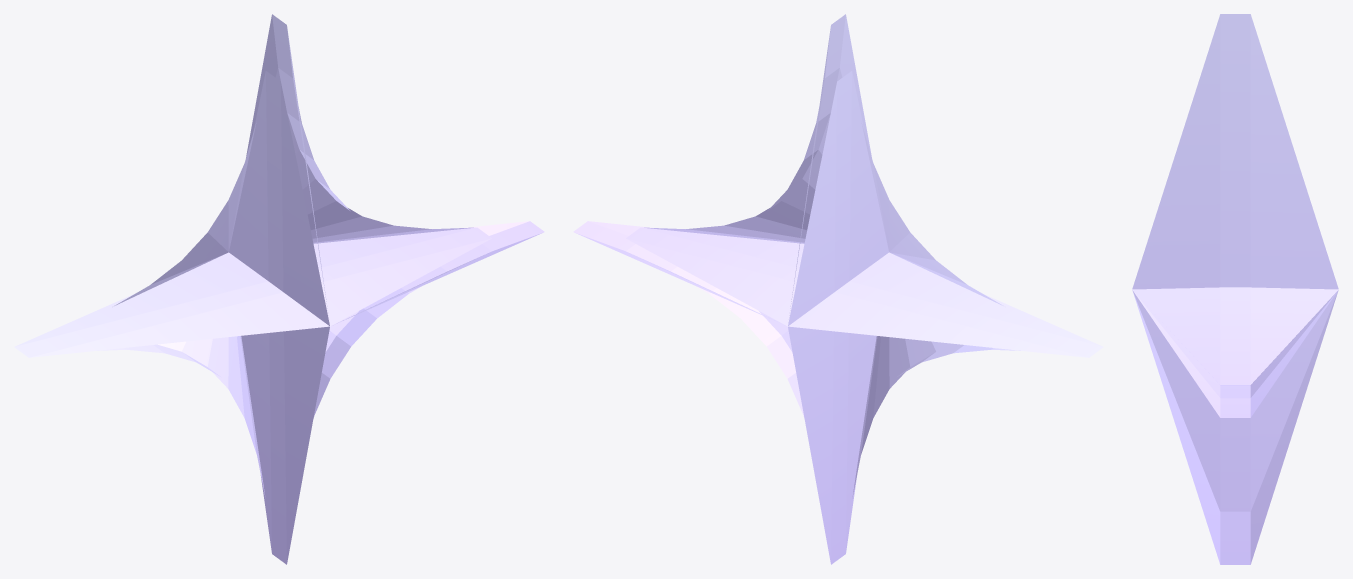
Rendered from deep-sky-star.glb.
The picture shows the model from 3 angles, left to right: view 1: azimuth 30°, elevation 25°; view 2: azimuth 150°, elevation 25°; view 3: azimuth 270°, elevation 25°; orthographic projection. The views are drawn at different scales.
Parts seen in each view (by area): view 1: star; view 2: star; view 3: star.
Boxes of the visible parts, bbox=[...] form: star: bbox=[14, 14, 544, 564]; star: bbox=[573, 14, 1103, 564]; star: bbox=[1132, 14, 1338, 564].
Size of the model in its own units: 2 by 2 by 0.68.
